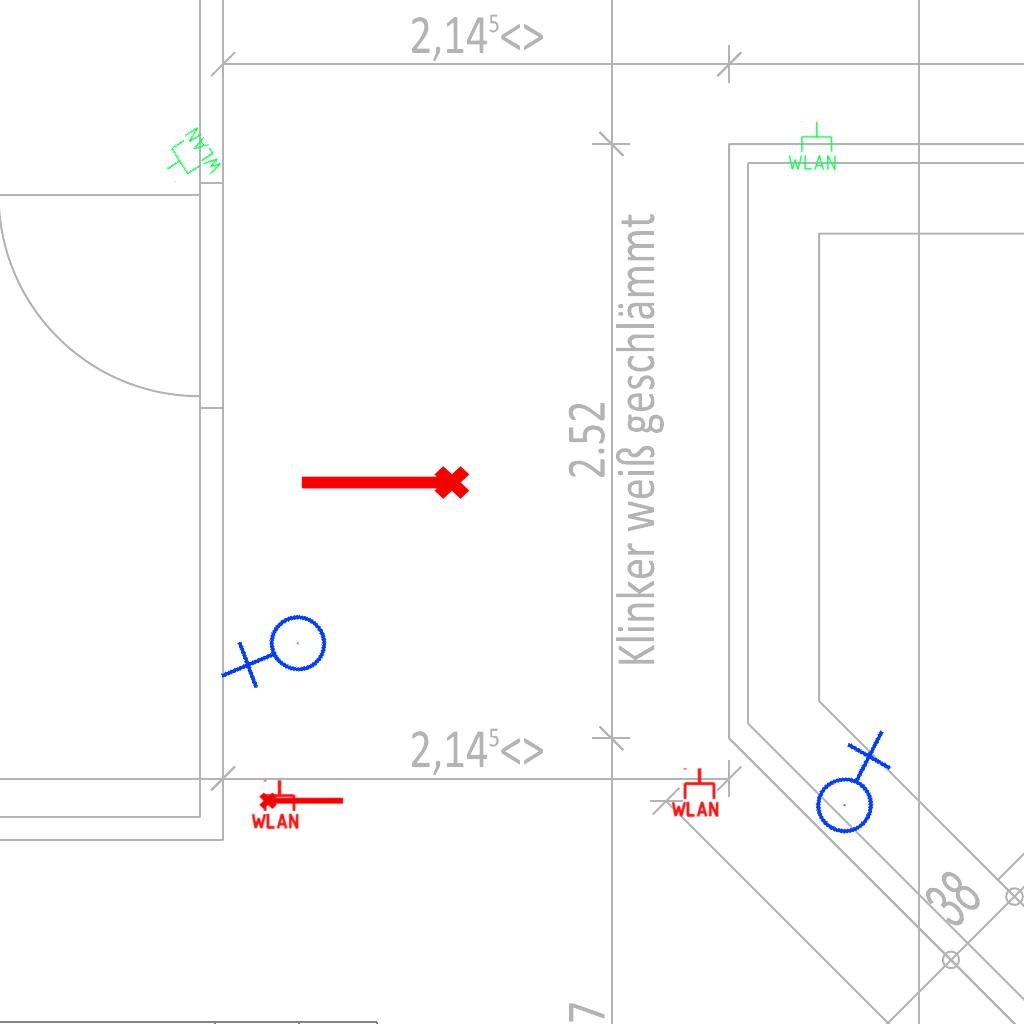ASR_Ansaugoeffnung: (296, 462, 472, 508), (258, 788, 346, 811)
Elektroanschluss_allgemein_230V_Geraeteanschlussdose_230V: (217, 593, 344, 717), (788, 724, 913, 846)
WLAN: (154, 124, 226, 196), (249, 778, 301, 830), (786, 120, 838, 172), (669, 766, 721, 818)
